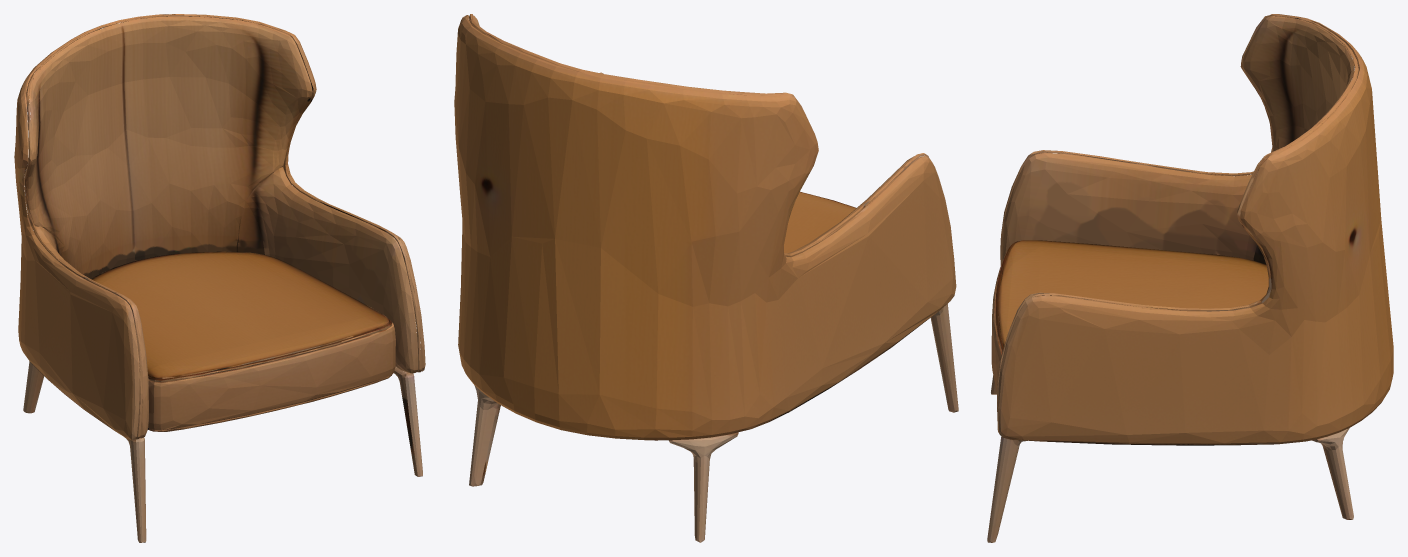
File: edited_mesh.glb
3 views of the same model, side by side, from view 1: azimuth 30°, elevation 25°; view 2: azimuth 150°, elevation 25°; view 3: azimuth 270°, elevation 25° (orthographic). The views are drawn at different scales.
Parts seen in each view (by area): view 1: solid_001_wire; view 2: solid_001_wire; view 3: solid_001_wire.
Part boxes in pixels (left/top/right/bottom): solid_001_wire: left=14, top=14, right=425, bottom=542; solid_001_wire: left=454, top=14, right=958, bottom=542; solid_001_wire: left=987, top=14, right=1393, bottom=542.
Size of the model in its own units: 1.17 by 1.37 by 1.26.
1 material, 1 textured.
